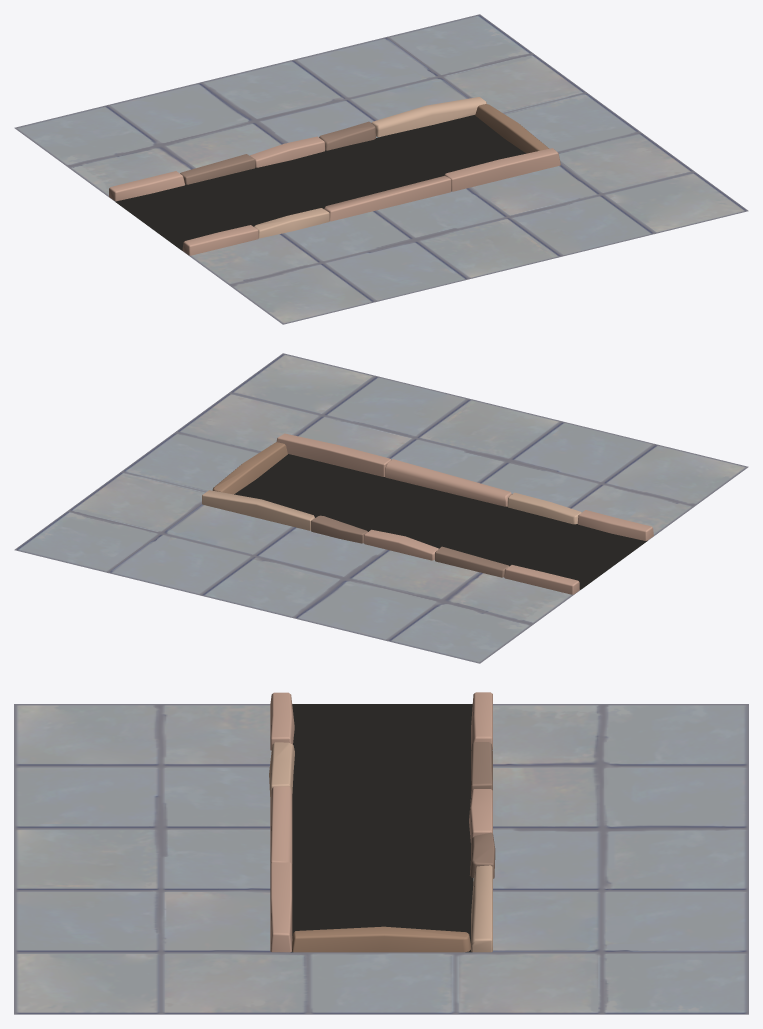
Rendered from CityRoad_endNarrowRoad.fbx.
3 views of the same model, one above another, from view 1: azimuth 30°, elevation 25°; view 2: azimuth 150°, elevation 25°; view 3: azimuth 270°, elevation 25° (orthographic). The views are drawn at different scales.
Parts seen in each view (by area): view 1: CityRoad_endNarrowRoad_mesh; view 2: CityRoad_endNarrowRoad_mesh; view 3: CityRoad_endNarrowRoad_mesh.
Part boxes in pixels (<box>): CityRoad_endNarrowRoad_mesh: <box>14,14,748,324</box>; CityRoad_endNarrowRoad_mesh: <box>14,353,748,663</box>; CityRoad_endNarrowRoad_mesh: <box>14,692,748,1014</box>.
Size of the model in its own units: 1000 by 28.62 by 1000.
